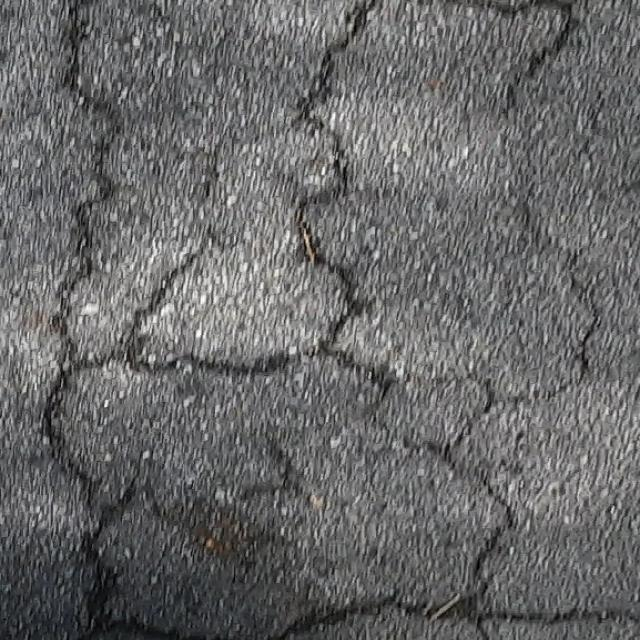GRIETA: (51, 0, 128, 353), (493, 608, 639, 628)
PIEL DE COCODRILO: (25, 0, 614, 639)
